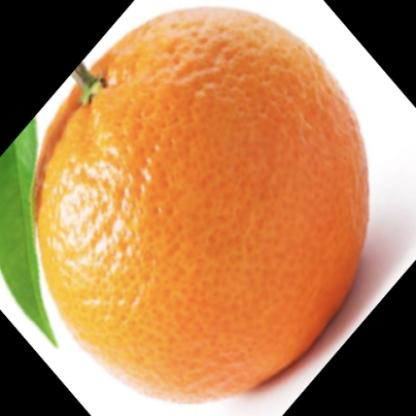fresh: (37, 9, 369, 405)
